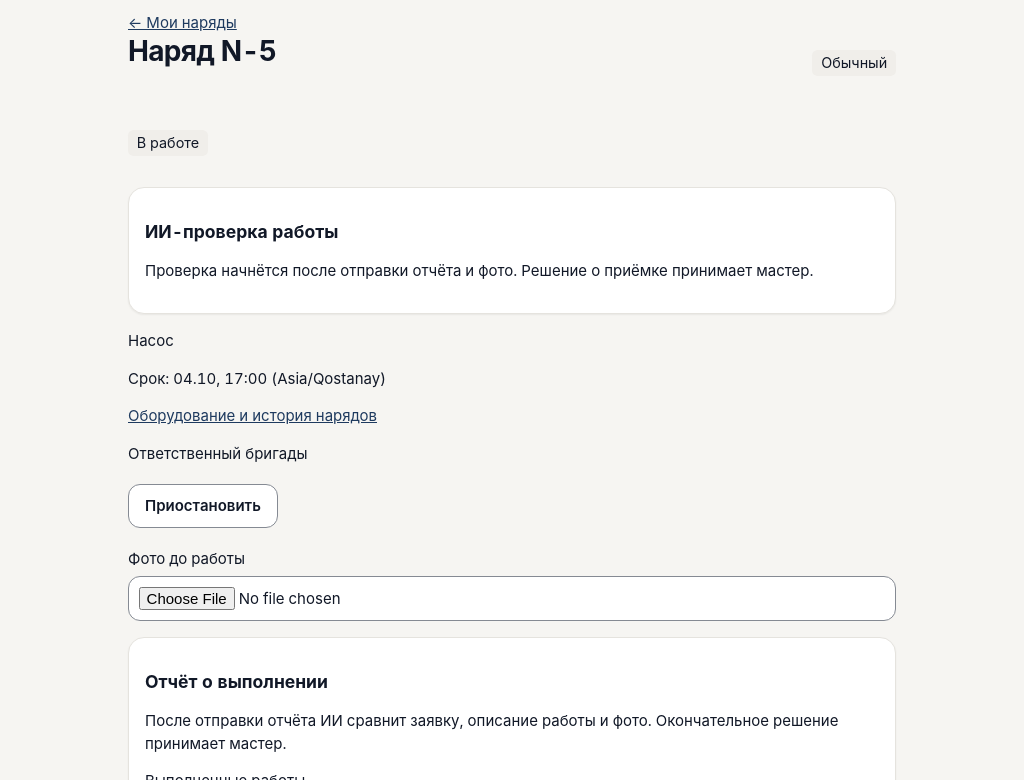
Scenario: shows only allowed worker actions and requires a pause reason
Later steps or results of the test are not shown.
Click the button "Приостановить": (203, 506) [128,484,278,528]
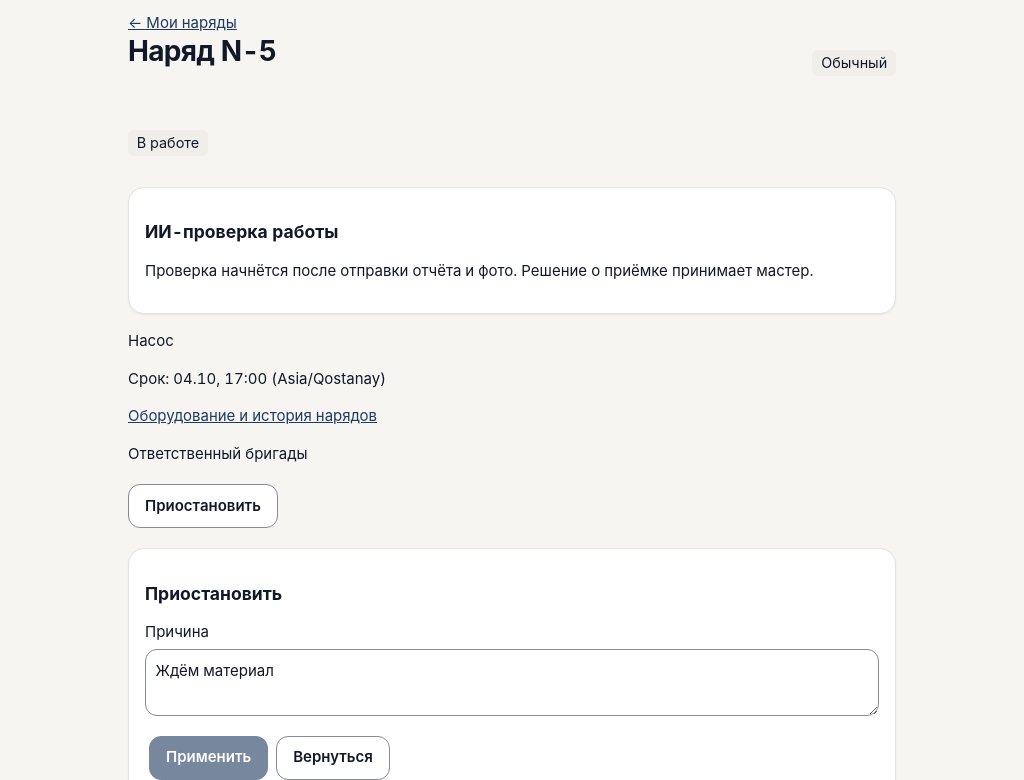
Expected: the button "Применить" is disabled, [149,736,268,779]
